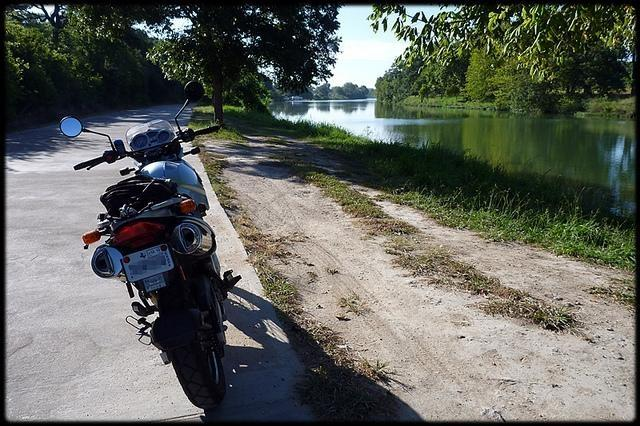motorcycle: (62, 83, 235, 408)
